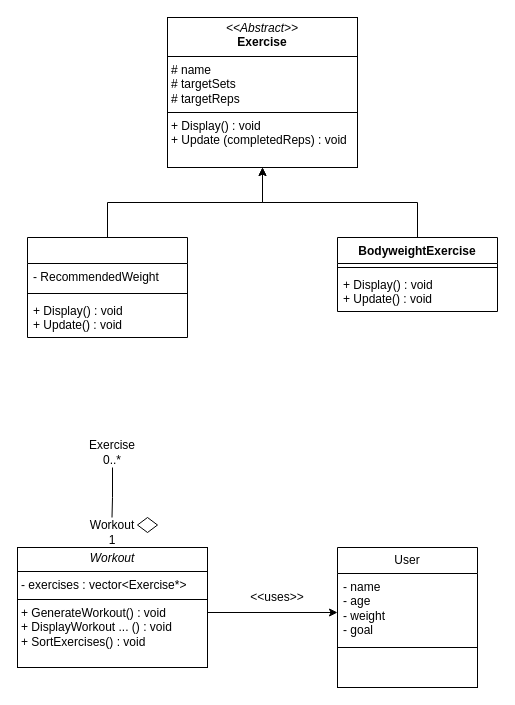
Some shapes in this 515 by 705 pixel diagram are drawn without their labels. The box of each missing label's shape, as (x1, y1, x2, y2) in pixels:
+ getGoal() : string + displayProfile() : void: (336, 646, 478, 688)
WeightedExercise: (26, 236, 188, 338)
